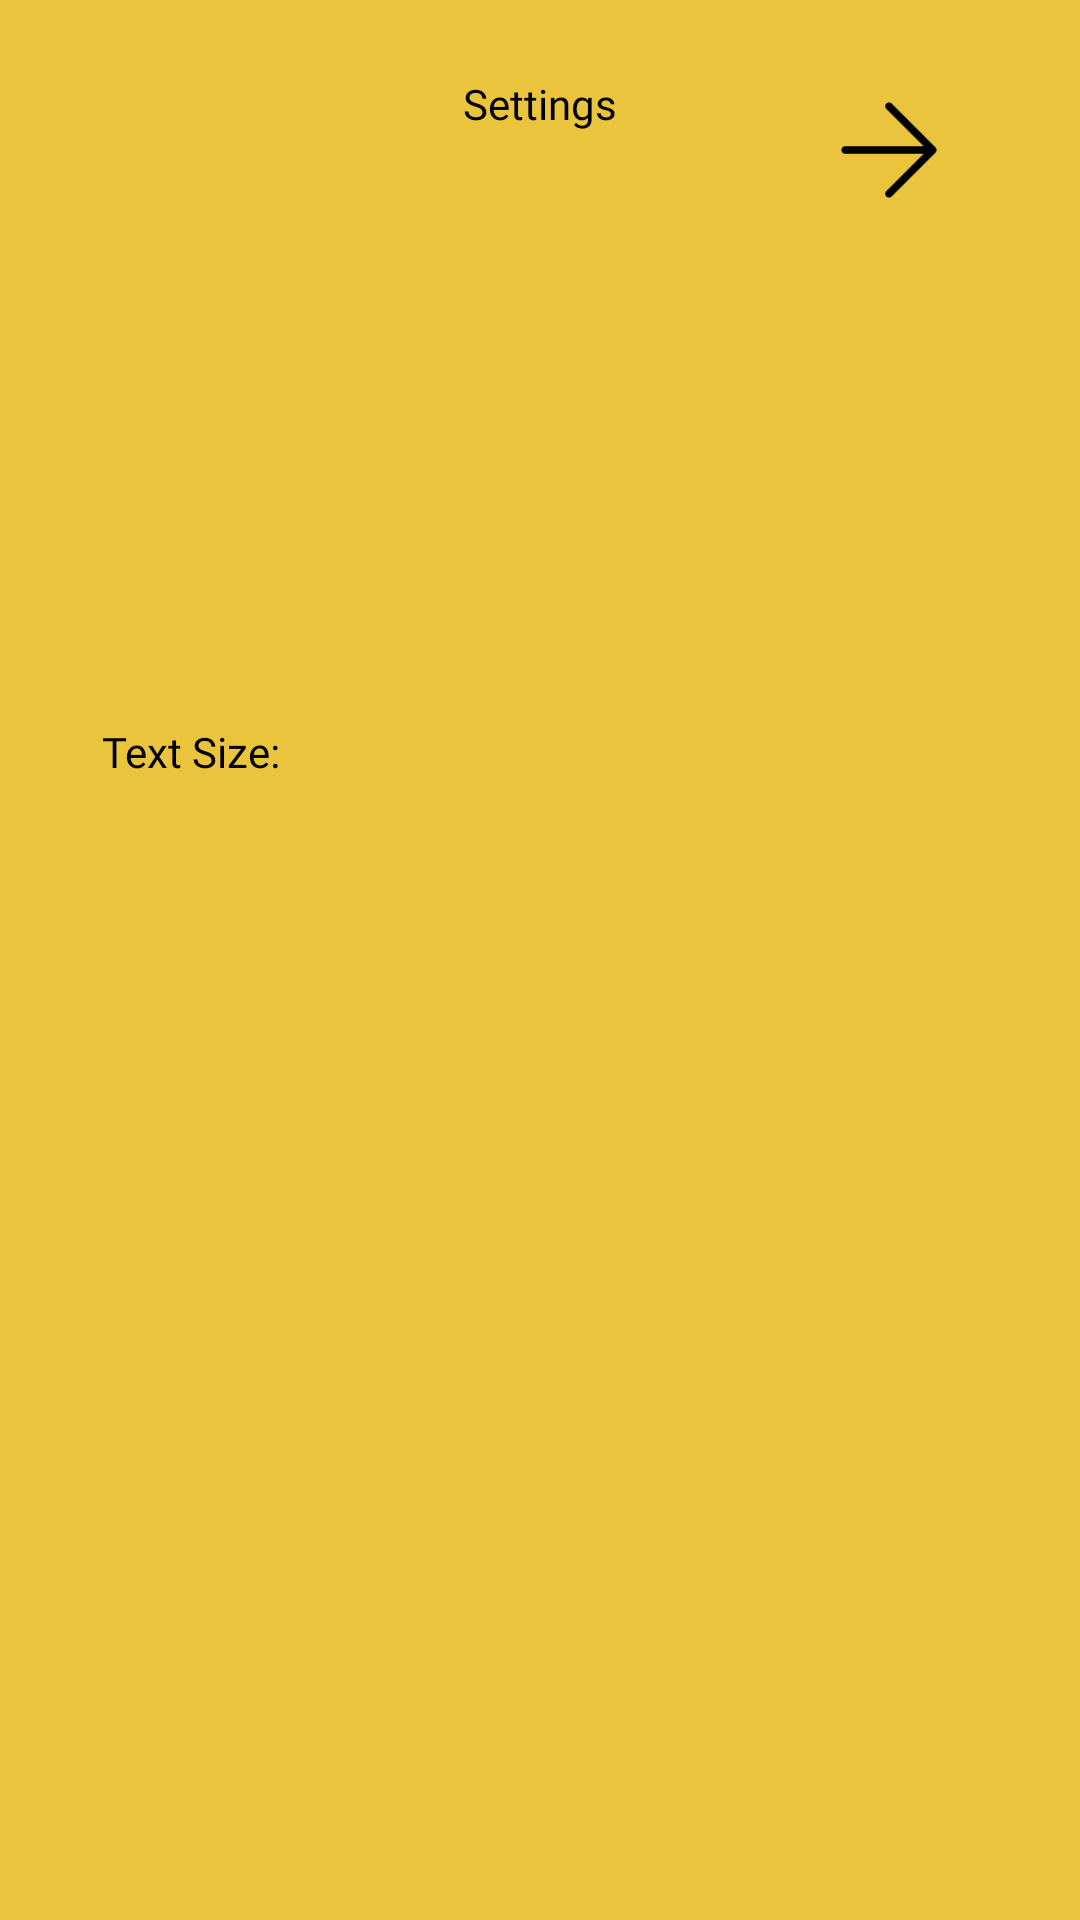

Where icons sit on this 1080*1920 app screen, as bbox=[x1, y1, x2, y2]:
arrow right: bbox=[841, 102, 937, 198]
